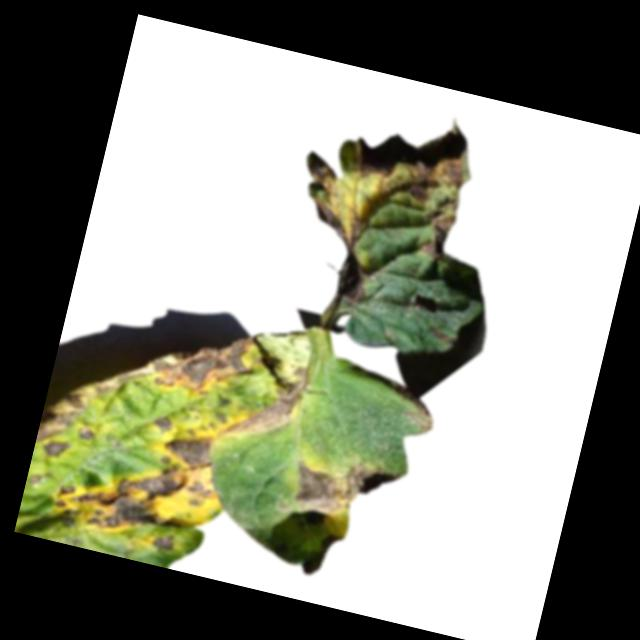Early_blight: (20, 282, 263, 553), (273, 88, 482, 327), (285, 454, 401, 535), (224, 364, 310, 450), (401, 396, 438, 433), (148, 530, 175, 556), (425, 326, 454, 347)
